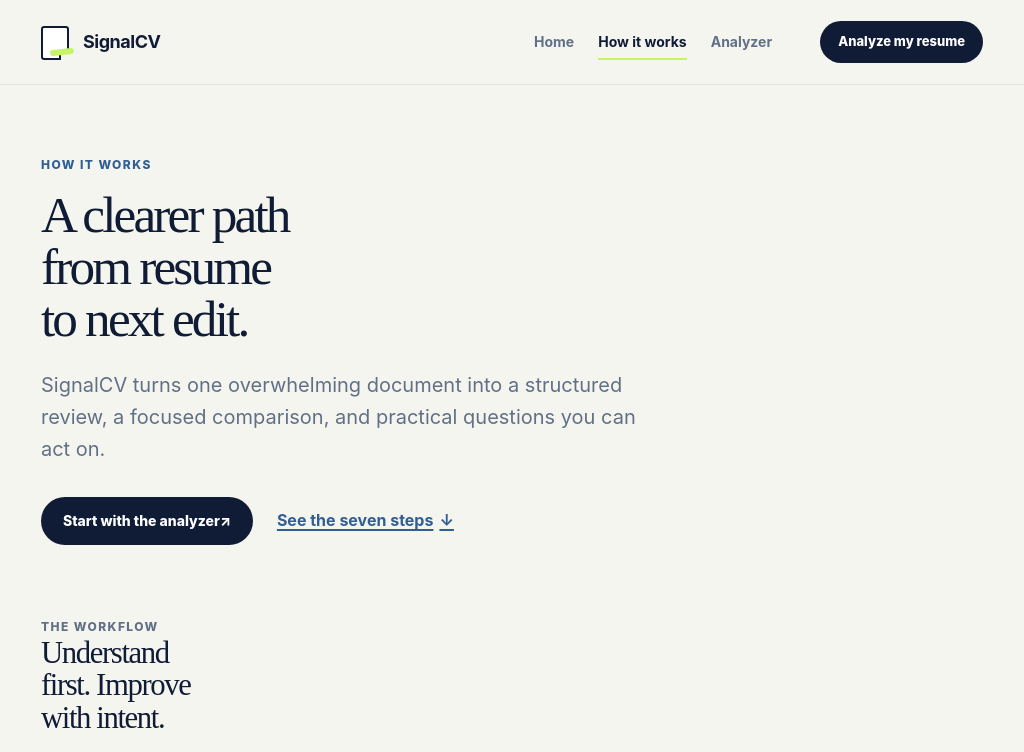
Test case: application shell and Home page › renders the complete How It Works workflow and reaches the analyzer CTA
Expected: the heading "A clearer path from resume to next edit." is shown, [41,186,289,347]
Expected: the heading "Understand first. Improve with intent." is shown, [41,636,191,734]
Click the link "Start with the analyzer ↗".
click(147, 521)  # box [41,497,253,545]
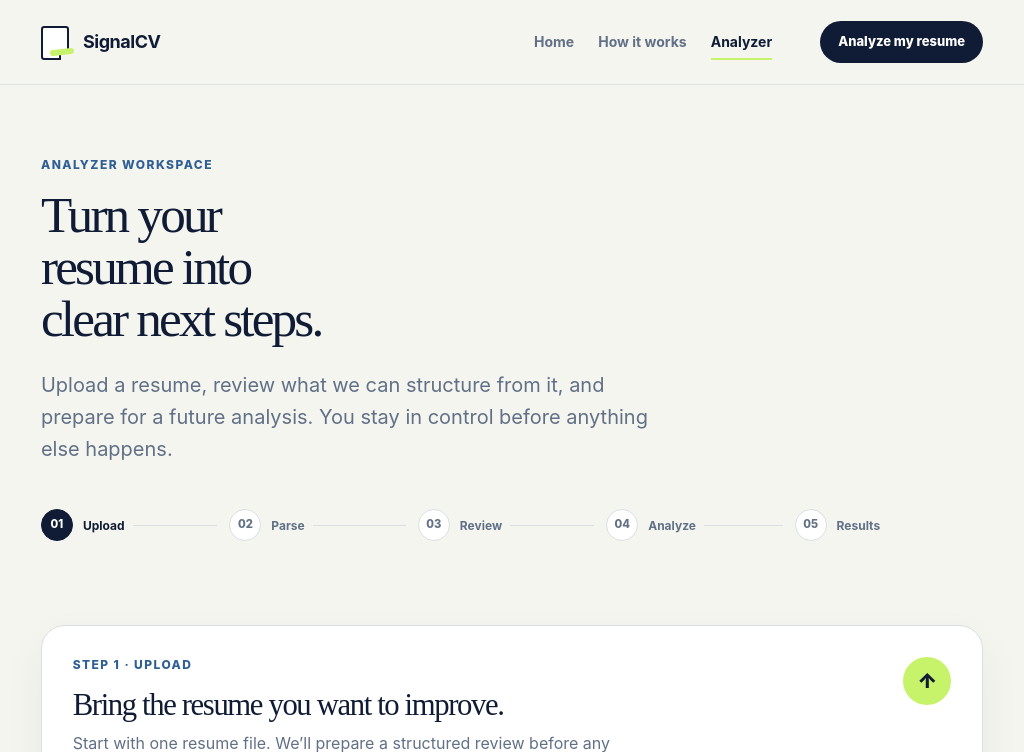
Expected: the heading "Turn your resume into clear next steps." is shown, [41,186,322,347]
